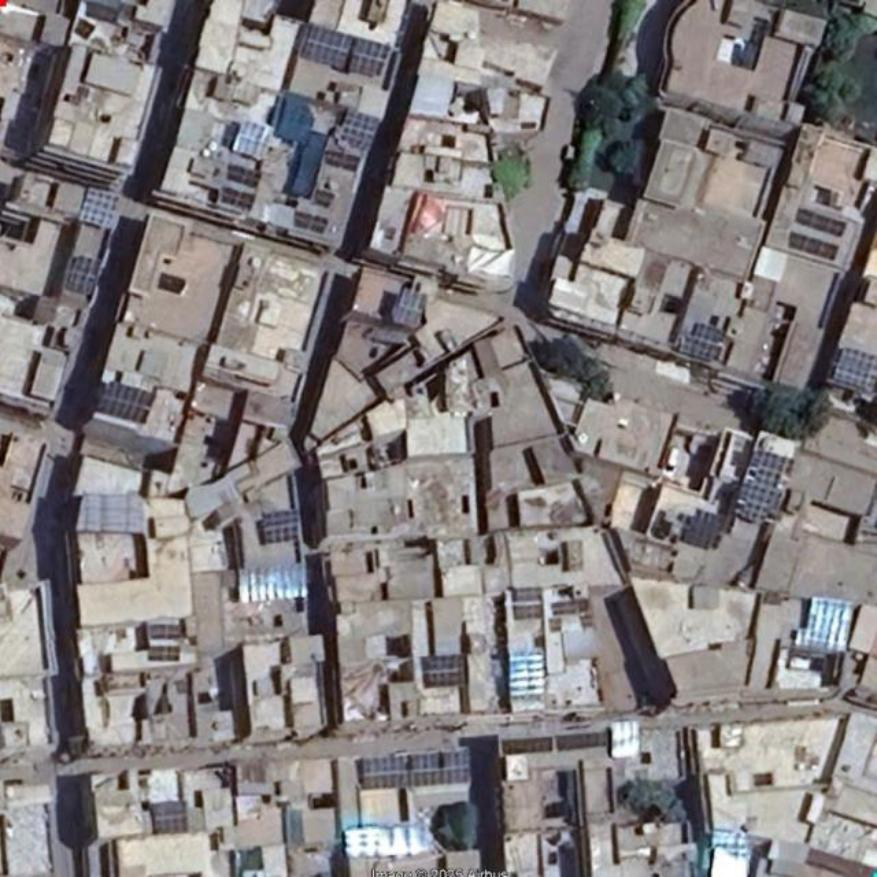Solarpanel: (300, 23, 389, 78), (738, 450, 797, 524), (361, 751, 469, 790), (345, 826, 431, 860), (238, 564, 309, 602), (95, 382, 159, 422), (806, 599, 852, 651), (834, 346, 876, 395), (682, 505, 726, 551), (338, 111, 382, 152), (786, 228, 838, 261), (511, 650, 546, 696), (80, 187, 119, 228), (793, 209, 847, 236), (237, 120, 275, 158), (393, 289, 428, 328), (423, 653, 462, 687), (67, 255, 99, 296), (678, 337, 724, 365), (262, 509, 298, 544), (610, 719, 640, 755), (152, 801, 186, 832), (226, 161, 264, 188), (327, 150, 362, 174), (294, 209, 328, 233), (514, 588, 542, 616), (220, 187, 255, 209), (690, 323, 729, 342), (148, 644, 181, 661), (150, 624, 184, 639), (314, 188, 337, 206)
